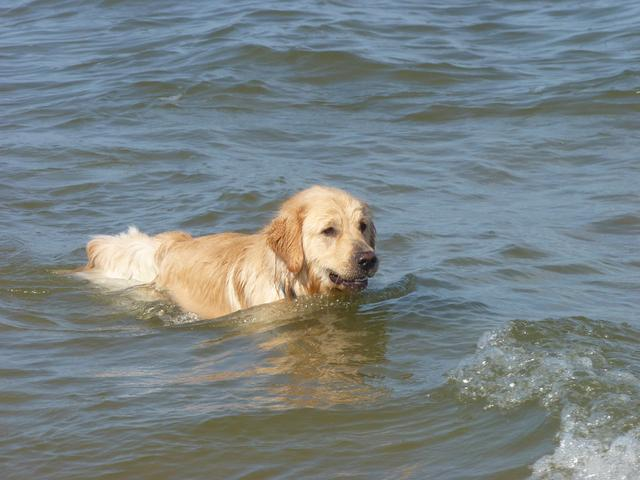dog: (60, 164, 452, 353)
